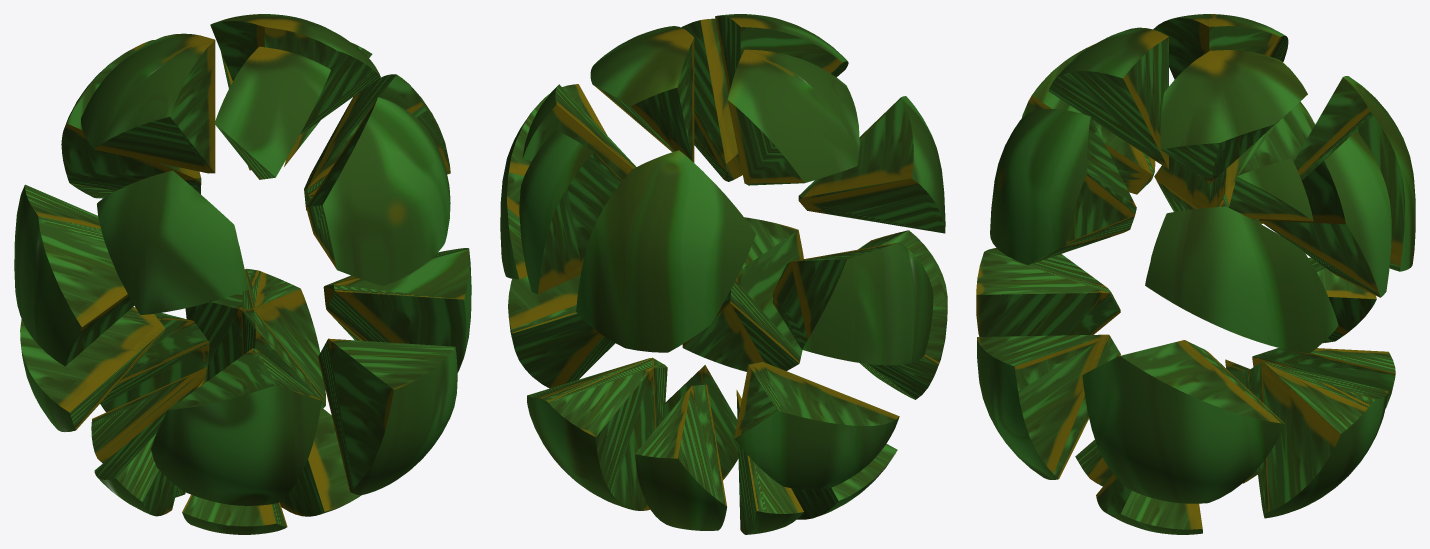
File: Semangka Meledak Dikit.fbx
The picture shows the model from 3 angles, left to right: view 1: azimuth 30°, elevation 25°; view 2: azimuth 150°, elevation 25°; view 3: azimuth 270°, elevation 25°; orthographic projection.
Parts seen in each view (by area): view 1: Cube_cell.014, Cube_cell.012, Cube_cell.006, Cube_cell.004, Cube_cell.002, Cube_cell.001, Cube_cell.019, Cube_cell.016, Cube_cell.005, Cube_cell.011, Cube_cell, Cube_cell.017 (+6 smaller); view 2: Cube_cell.017, Cube_cell.001, Cube_cell.002, Cube_cell.011, Cube_cell.016, Cube_cell.004, Cube_cell.009, Cube_cell.008, Cube_cell.006, Cube_cell, Cube_cell.019, Cube_cell.014 (+7 smaller); view 3: Cube_cell.019, Cube_cell.015, Cube_cell.014, Cube_cell.016, Cube_cell.006, Cube_cell, Cube_cell.009, Cube_cell.005, Cube_cell.012, Cube_cell.017, Cube_cell.001, Cube_cell.002 (+6 smaller).
Part boxes in pixels (left/top/right/bottom): Cube_cell.014: left=306, top=97, right=450, bottom=286; Cube_cell.012: left=151, top=348, right=321, bottom=505; Cube_cell.006: left=318, top=338, right=457, bottom=495; Cube_cell.004: left=97, top=170, right=248, bottom=314; Cube_cell.002: left=81, top=33, right=215, bottom=173; Cube_cell.001: left=14, top=184, right=134, bottom=366; Cube_cell.019: left=323, top=248, right=471, bottom=372; Cube_cell.016: left=185, top=268, right=325, bottom=408; Cube_cell.005: left=214, top=46, right=330, bottom=179; Cube_cell.011: left=20, top=307, right=165, bottom=431; Cube_cell: left=210, top=14, right=380, bottom=134; Cube_cell.017: left=61, top=40, right=201, bottom=198; Cube_cell.017: left=576, top=150, right=755, bottom=352; Cube_cell.001: left=773, top=242, right=933, bottom=365; Cube_cell.002: left=727, top=49, right=859, bottom=185; Cube_cell.011: left=734, top=362, right=899, bottom=489; Cube_cell.016: left=527, top=357, right=667, bottom=510; Cube_cell.004: left=798, top=96, right=945, bottom=233; Cube_cell.009: left=519, top=130, right=622, bottom=294; Cube_cell.008: left=635, top=384, right=726, bottom=530; Cube_cell.006: left=682, top=217, right=803, bottom=371; Cube_cell: left=590, top=26, right=694, bottom=162; Cube_cell.019: left=508, top=275, right=615, bottom=388; Cube_cell.014: left=681, top=18, right=742, bottom=181; Cube_cell.019: left=1082, top=340, right=1284, bottom=503; Cube_cell.015: left=1145, top=206, right=1338, bottom=353; Cube_cell.014: left=990, top=109, right=1136, bottom=264; Cube_cell.016: left=1245, top=362, right=1388, bottom=518; Cube_cell.006: left=977, top=334, right=1120, bottom=479; Cube_cell: left=1160, top=50, right=1307, bottom=183; Cube_cell.009: left=1259, top=131, right=1391, bottom=297; Cube_cell.005: left=1048, top=27, right=1168, bottom=169; Cube_cell.012: left=976, top=248, right=1120, bottom=336; Cube_cell.017: left=1293, top=76, right=1415, bottom=271; Cube_cell.001: left=1154, top=101, right=1315, bottom=224; Cube_cell.002: left=1153, top=14, right=1288, bottom=79.
Bounding box in the file's own units: 314 × 355 × 298.
